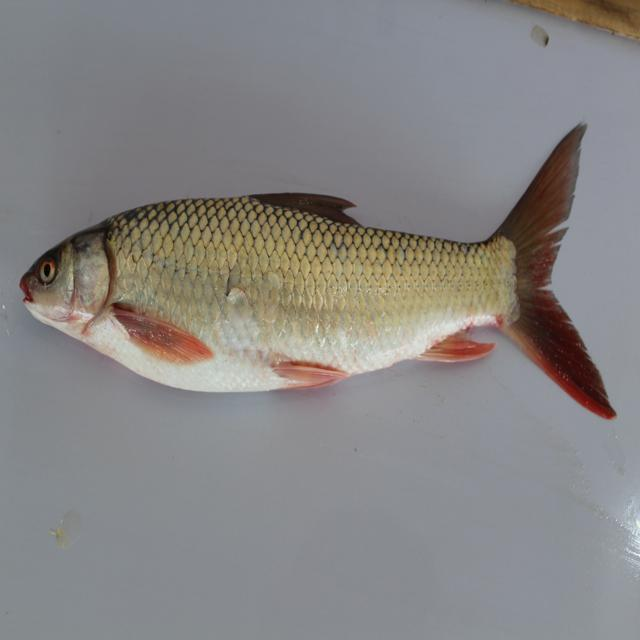Mori: (18, 153, 626, 431)
